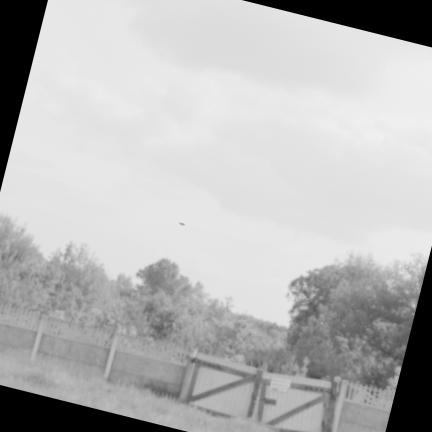Shahed: (178, 222, 184, 225)
